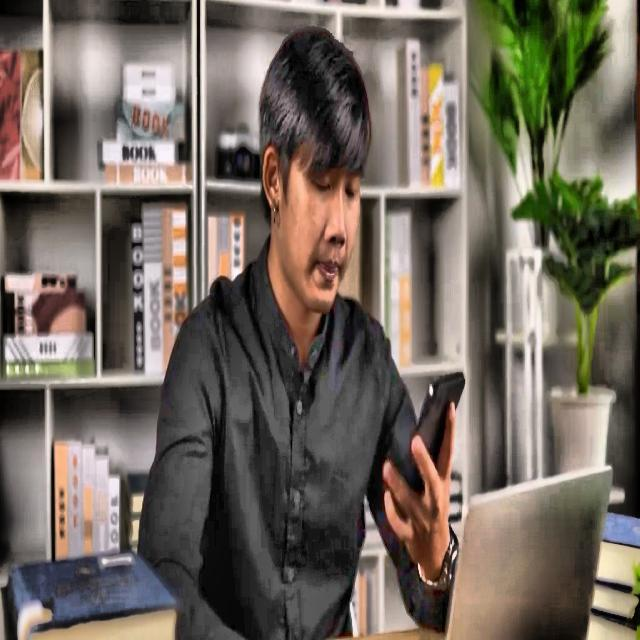Phone: (402, 369, 467, 537)
